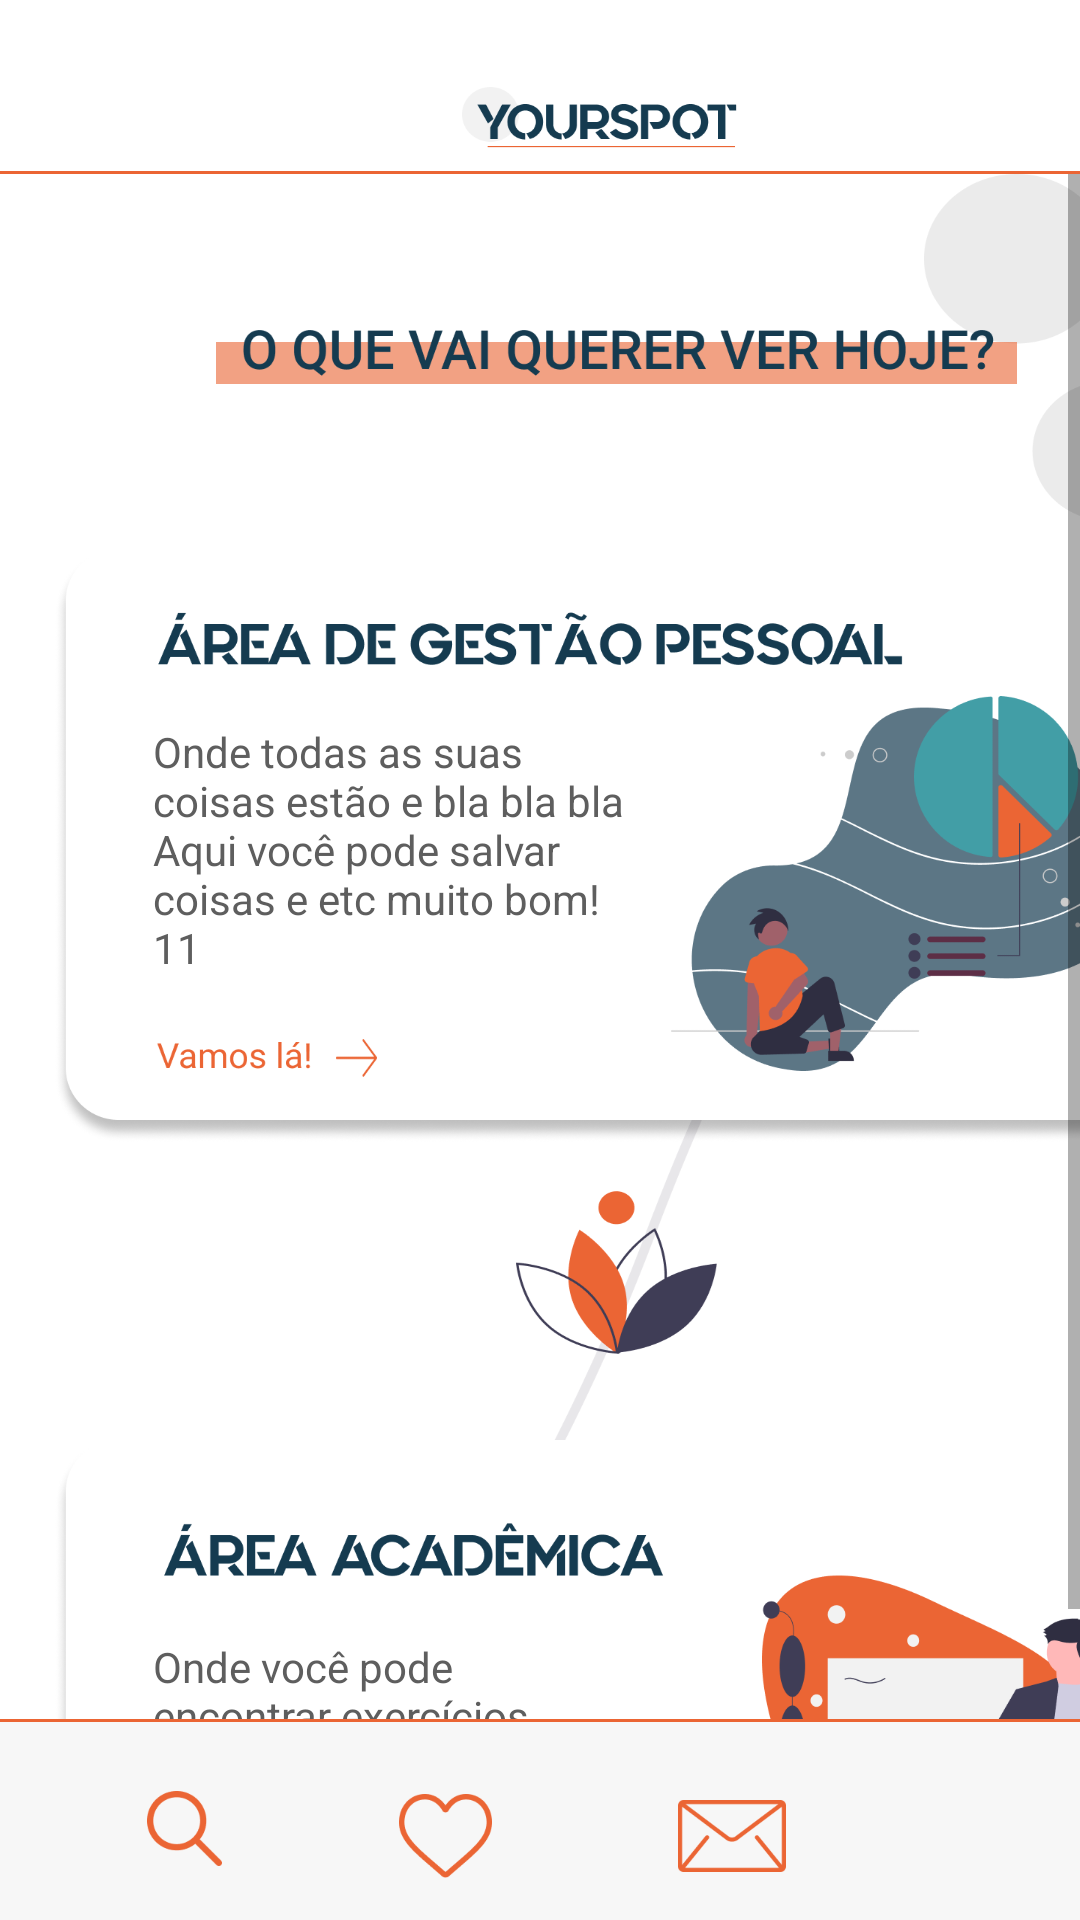

Icons on this 1080w x 1920h Android screen, each with its box as (x1, y1, x2, y2):
iconecoracao menuinf: (399, 1794, 492, 1878)
iconemensagem menuinf: (678, 1800, 786, 1872)
iconepesquisa menuinf: (147, 1791, 222, 1866)
